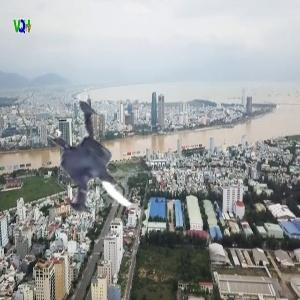drone: (18, 94, 168, 244)
